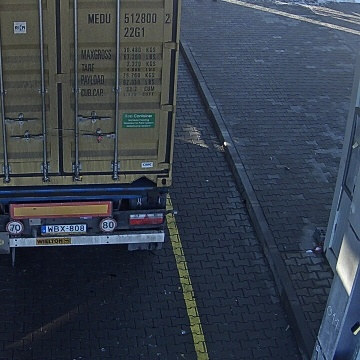serial_id: (88, 13, 170, 23)
